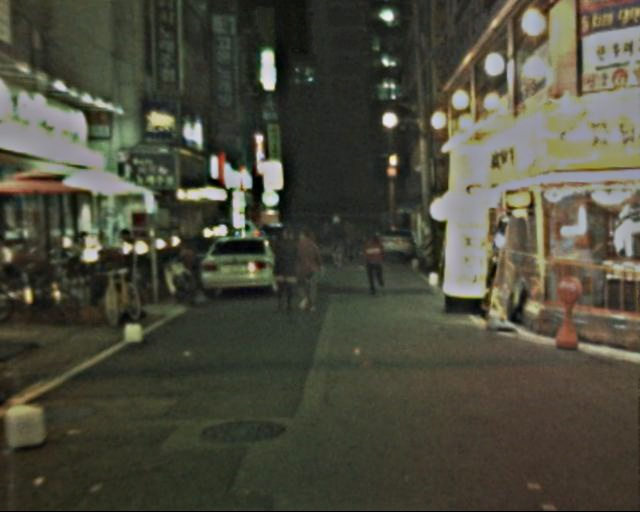person: (292, 225, 329, 320), (268, 225, 301, 320), (358, 225, 391, 303), (324, 210, 351, 272)
